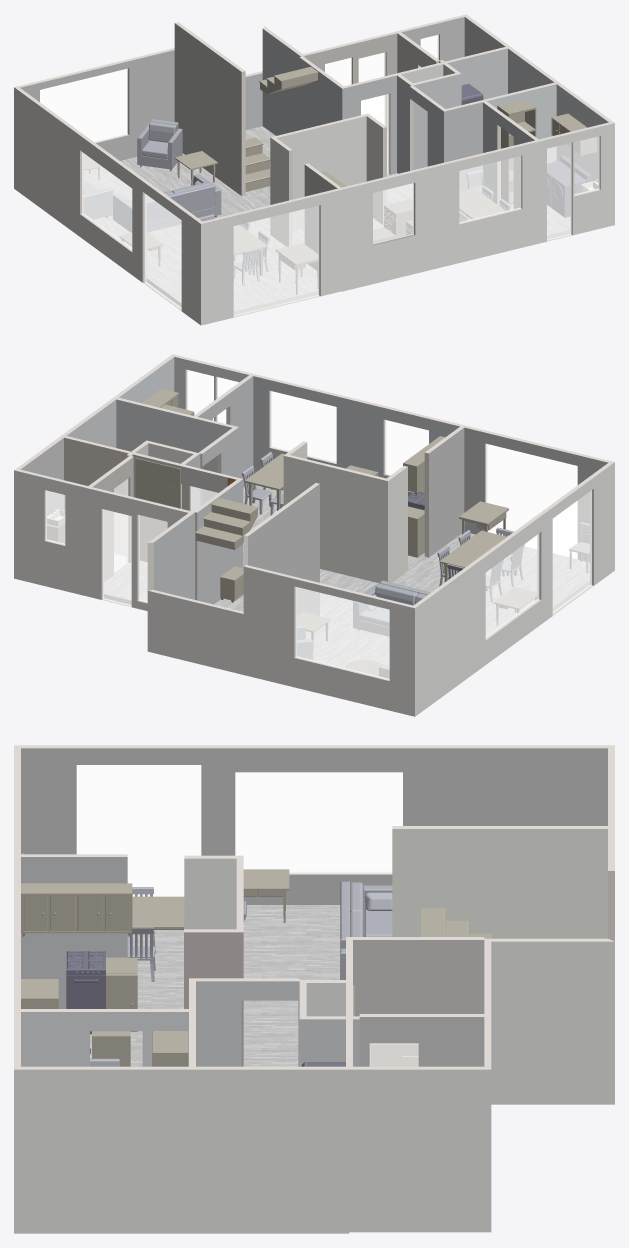
The model's file is apartment.glb.
The picture shows the model from 3 angles, top to bottom: view 1: azimuth 30°, elevation 25°; view 2: azimuth 150°, elevation 25°; view 3: azimuth 270°, elevation 25°; orthographic projection. The views are drawn at different scales.
Visible parts, largest first — view 1: wall_70, wall_37, wall_57, door_1, door_8, wall_128, floor_Dining Room_1, wall_20, wall_78, window_5, window_12, floor_Living Room_0 (+63 smaller); view 2: wall_37, wall_112, wall_12, wall_65, wall_69, window_5, window_12, wall_29, wall_57, door_1, door_8, floor_Dining Room_1 (+57 smaller); view 3: wall_2, wall_53, wall_33, wall_140, wall_7, wall_96, window_0, window_7, door_6, door_13, floor_Dining Room_1, wall_15 (+29 smaller).
Boxes of the visible parts, x1,y1,x2,y2 form: wall_70: (341, 123, 614, 291); wall_37: (14, 87, 200, 325); wall_57: (174, 23, 241, 195); door_1: (234, 205, 318, 316); door_8: (234, 206, 318, 315); wall_128: (201, 190, 341, 325); floor_Dining Room_1: (120, 211, 317, 310); wall_20: (20, 50, 174, 160); wall_78: (277, 116, 366, 230); window_5: (40, 69, 127, 141); window_12: (40, 69, 127, 141); floor_Living Room_0: (84, 126, 275, 238); wall_37: (415, 462, 614, 716); wall_112: (243, 566, 414, 716); wall_12: (283, 456, 387, 582); wall_65: (14, 470, 87, 596); wall_69: (253, 376, 459, 478); window_5: (296, 587, 389, 679); window_12: (296, 587, 389, 679); wall_29: (147, 591, 243, 674); wall_57: (248, 484, 319, 615); door_1: (486, 444, 577, 535); door_8: (486, 444, 577, 535); floor_Dining Room_1: (392, 532, 589, 635); wall_2: (21, 748, 607, 904); wall_53: (14, 1069, 192, 1233); wall_33: (192, 1069, 349, 1233); wall_140: (349, 1069, 491, 1232); wall_7: (392, 829, 607, 938); wall_96: (491, 941, 614, 1104); window_0: (235, 772, 402, 872); window_7: (235, 772, 402, 872); door_6: (77, 765, 200, 896); door_13: (77, 765, 200, 896); floor_Dining Room_1: (132, 905, 340, 1012); wall_15: (353, 940, 484, 1066).
Bounding box in the file's own units: 10.88 × 3.24 × 8.52.
Materials: 120 (10 with a texture image).
